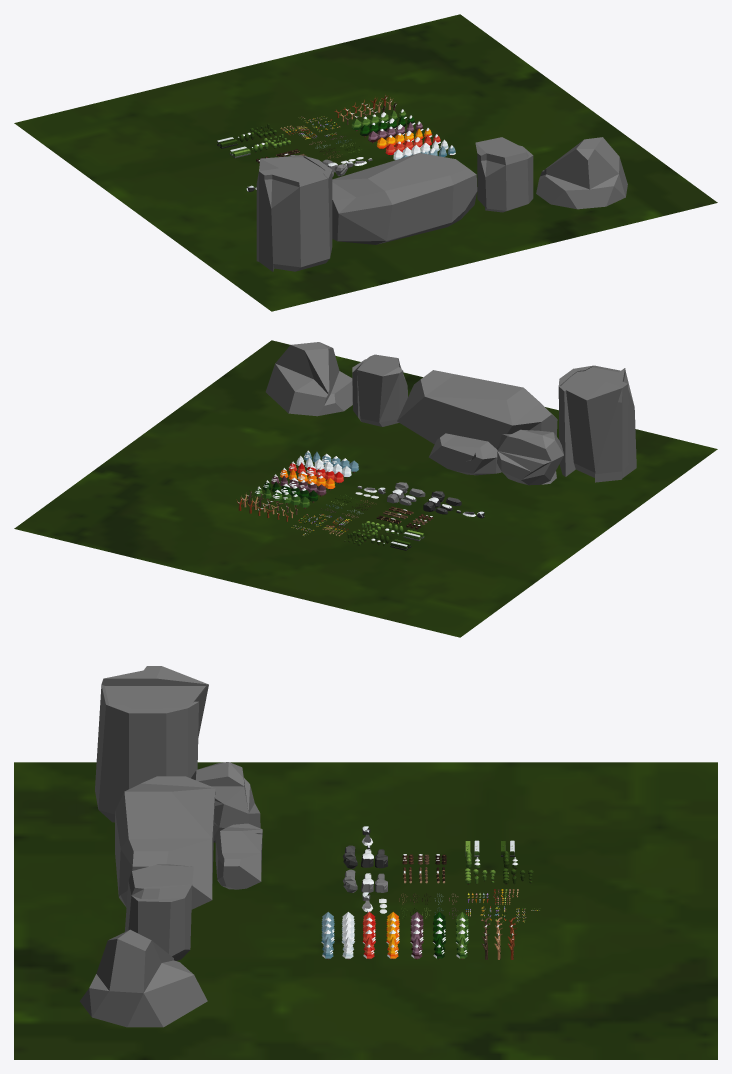
The model's file is Snowy_Autumn_Props_Update.fbx.
3 views of the same model, one above another, from view 1: azimuth 30°, elevation 25°; view 2: azimuth 150°, elevation 25°; view 3: azimuth 270°, elevation 25° (orthographic). The views are drawn at different scales.
Visible parts, largest first — view 1: Floor, Mountain_4, Mountain_3, Mountain_1, Mountain_2; view 2: Floor, Mountain_3, Mountain_4, Mountain_1, Mountain_2, Mountain_5, Mountain_6; view 3: Floor, Mountain_3, Mountain_4, Mountain_1, Mountain_2, Mountain_6, Mountain_5.
Part boxes in pixels (x1,y1,x2,y2): Floor: (14, 14, 717, 311); Mountain_4: (332, 153, 477, 244); Mountain_3: (256, 155, 332, 271); Mountain_1: (536, 137, 627, 209); Mountain_2: (475, 137, 533, 212); Floor: (14, 340, 717, 637); Mountain_3: (558, 365, 636, 482); Mountain_4: (397, 370, 557, 449); Mountain_1: (265, 342, 352, 416); Mountain_2: (352, 354, 407, 426); Mountain_5: (497, 429, 563, 485); Mountain_6: (429, 433, 501, 475); Floor: (14, 762, 717, 1059); Mountain_3: (95, 666, 208, 822); Mountain_4: (115, 776, 215, 909); Mountain_1: (79, 929, 207, 1027); Mountain_2: (125, 864, 193, 960); Mountain_6: (215, 823, 262, 889); Mountain_5: (191, 762, 260, 842).
Bounding box in the file's own units: 50000 × 9838 × 50000.
